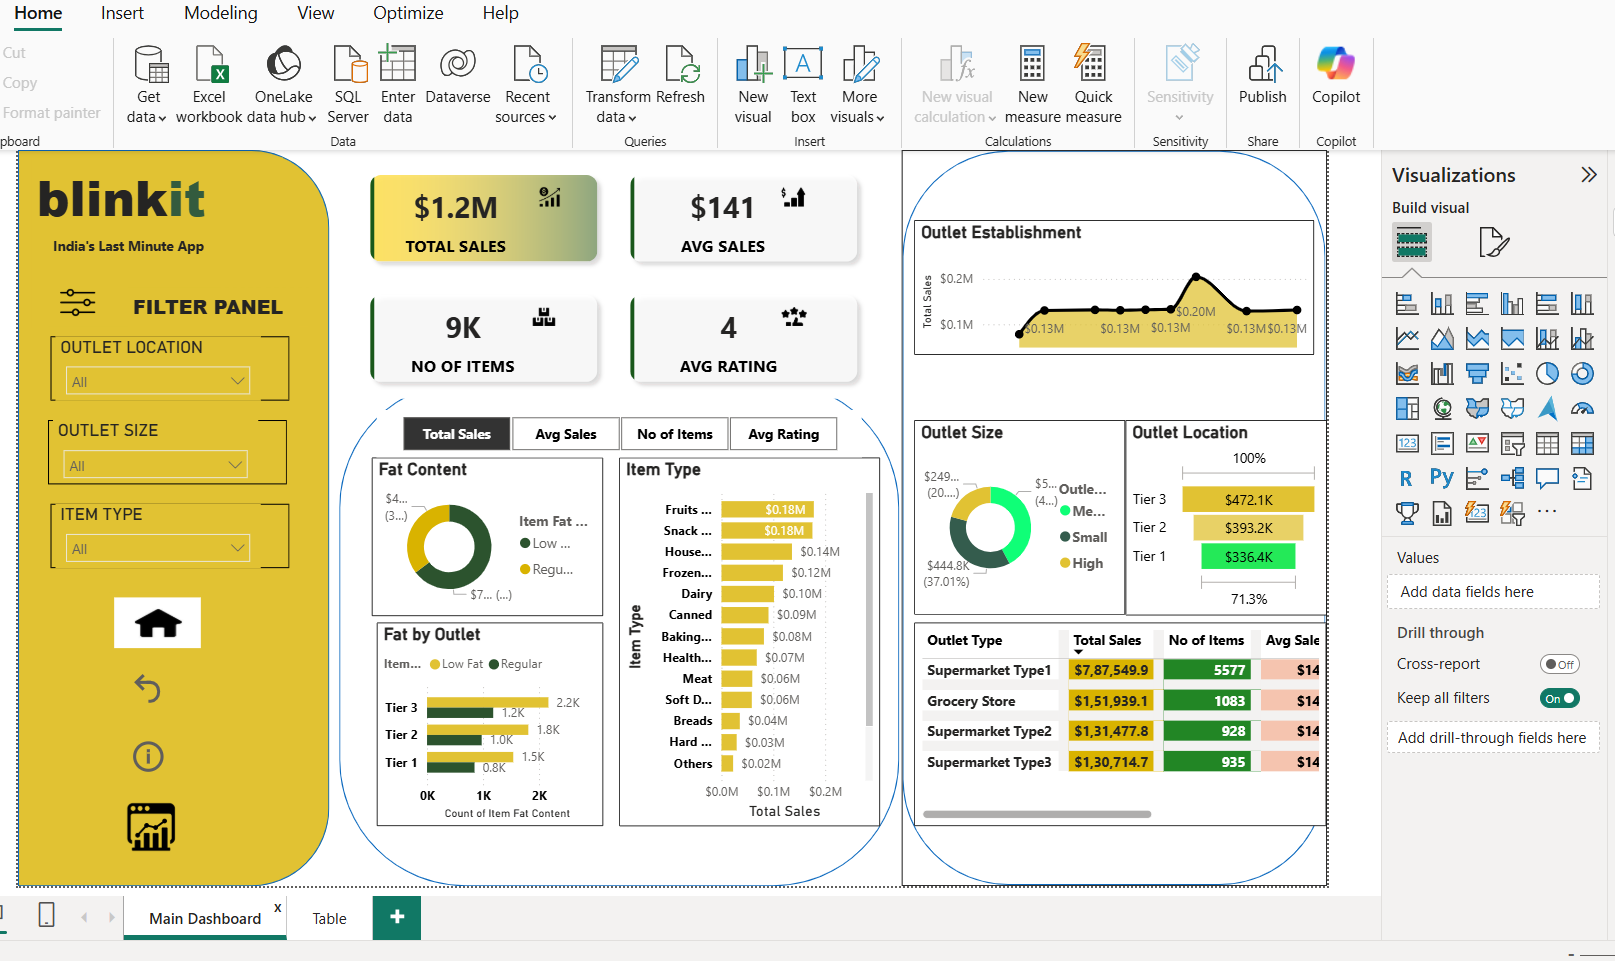

This screenshot's page, from the dashboard's own definition file:
{"tool":"powerbi","page":{"name":"Page 1","canvas":[1280,720],"ordinal":0},"visuals":[{"type":"shape","box":[864.5,0,415.8,720.2],"z":0},{"type":"shape","box":[317.2,226.8,546.8,493.9],"z":1000},{"type":"shape","box":[12.4,0,304.7,720.1],"z":2000},{"type":"donutChart","title":" Fat Content","fields":{"Y":["BlinkIT Grocery Data.Total Sales","BlinkIT Grocery Data.Avg Sales","BlinkIT Grocery Data.No of Items","BlinkIT Grocery Data.Avg Rating"],"Category":["BlinkIT Grocery Data.Item Fat Content"]},"box":[330.4,300,220.3,155.1],"z":3000},{"type":"clusteredBarChart","title":" Fat by Outlet ","fields":{"Category":["BlinkIT Grocery Data.Outlet Location Type"],"Y":["CountNonNull(BlinkIT Grocery Data.Item Fat Content)"],"Series":["BlinkIT Grocery Data.Item Fat Content"]},"box":[340.2,462.9,220.3,211.9],"z":4000},{"type":"clusteredBarChart","title":" Item Type","fields":{"Y":["BlinkIT Grocery Data.Total Sales"],"Category":["BlinkIT Grocery Data.Item Type"]},"box":[582.8,299.8,256.6,375.1],"z":5000},{"type":"donutChart","title":" Outlet Size","fields":{"Category":["BlinkIT Grocery Data.Outlet Size"],"Y":["BlinkIT Grocery Data.Total Sales"]},"box":[876.8,264.1,206.7,190.8],"z":6000},{"type":"funnel","title":"Outlet Location ","fields":{"Category":["BlinkIT Grocery Data.Outlet Location Type"],"Y":["BlinkIT Grocery Data.Total Sales"]},"box":[1083.4,263.5,196.6,191],"z":7000},{"type":"stackedAreaChart","title":" Outlet Establishment ","fields":{"Y":["BlinkIT Grocery Data.Total Sales"],"Category":["BlinkIT Grocery Data.Outlet Establishment Year"]},"box":[876.8,68.5,391.3,132.1],"z":8000},{"type":"textbox","box":[29.3,14.7,245.8,166.3],"z":9000},{"type":"textbox","box":[41.6,79.5,233.6,92.9],"z":10000},{"type":"tableEx","fields":{"Values":["BlinkIT Grocery Data.Outlet Type","BlinkIT Grocery Data.Total Sales","BlinkIT Grocery Data.No of Items","BlinkIT Grocery Data.Avg Sales","BlinkIT Grocery Data.Avg Rating","Avg(BlinkIT Grocery Data.Item Visibility)"]},"box":[864.5,462.2,415.8,199.3],"z":11000},{"type":"shape","box":[31.5,182.4,233.8,63],"z":12000},{"type":"shape","box":[29.8,263.6,233.8,63],"z":13000},{"type":"shape","box":[31.5,346.5,233.8,63],"z":14000},{"type":"slicer","title":"OUTLET SIZE","fields":{"Values":["BlinkIT Grocery Data.Outlet Location Type","BlinkIT Grocery Data.Outlet Size","BlinkIT Grocery Data.Item Type"]},"box":[34.8,263.6,200.6,59.7],"z":15000},{"type":"slicer","title":"OUTLET LOCATION","fields":{"Values":["BlinkIT Grocery Data.Outlet Location Type","BlinkIT Grocery Data.Outlet Size","BlinkIT Grocery Data.Item Type"]},"box":[36.5,182.4,200.6,63],"z":16000},{"type":"slicer","title":"ITEM TYPE","fields":{"Values":["BlinkIT Grocery Data.Outlet Location Type","BlinkIT Grocery Data.Outlet Size","BlinkIT Grocery Data.Item Type"]},"box":[36.5,346.5,200.6,63],"z":17000},{"type":"image","box":[89.5,432.7,94.5,59.7],"z":18000},{"type":"actionButton","box":[107.8,507.4,99.5,38.1],"z":19000},{"type":"image","box":[12.4,134.3,116.9,47.3],"z":20000},{"type":"textbox","box":[108.2,134.3,176.6,38.6],"z":21000},{"type":"actionButton","box":[107.8,573.7,99.5,39.8],"z":22000},{"type":"image","box":[99.5,633.4,63,58],"z":23000},{"type":"slicer","fields":{"Values":["Parameter.Parameter"]},"box":[351,245.8,474.5,46.5],"z":24000},{"type":"cardVisual","fields":{"Data":["BlinkIT Grocery Data.Total Sales","BlinkIT Grocery Data.Avg Sales","BlinkIT Grocery Data.No of Items","BlinkIT Grocery Data.Avg Rating"]},"box":[330.5,0,511,236],"z":25000}]}

Visuals, with their boxes on the page's 1280x720 design canvas (x1, y1, x2, y2). These are canvas units, not pixel positions in the 1615x961 screenshot, which may show the page scaled, cropped or inside an application window:
shape: <box>864,0,1280,720</box>
shape: <box>317,227,864,721</box>
shape: <box>12,0,317,720</box>
" Fat Content" donutChart: <box>330,300,551,455</box>
" Fat by Outlet " clusteredBarChart: <box>340,463,560,675</box>
" Item Type" clusteredBarChart: <box>583,300,839,675</box>
" Outlet Size" donutChart: <box>877,264,1084,455</box>
"Outlet Location " funnel: <box>1083,264,1280,454</box>
" Outlet Establishment " stackedAreaChart: <box>877,68,1268,201</box>
textbox: <box>29,15,275,181</box>
textbox: <box>42,80,275,172</box>
tableEx - BlinkIT Grocery Data.Outlet Type x BlinkIT Grocery Data.Total Sales: <box>864,462,1280,662</box>
shape: <box>32,182,265,245</box>
shape: <box>30,264,264,327</box>
shape: <box>32,346,265,410</box>
"OUTLET SIZE" slicer: <box>35,264,235,323</box>
"OUTLET LOCATION" slicer: <box>36,182,237,245</box>
"ITEM TYPE" slicer: <box>36,346,237,410</box>
image: <box>90,433,184,492</box>
actionButton: <box>108,507,207,546</box>
image: <box>12,134,129,182</box>
textbox: <box>108,134,285,173</box>
actionButton: <box>108,574,207,614</box>
image: <box>100,633,162,691</box>
slicer - Parameter.Parameter: <box>351,246,826,292</box>
cardVisual - BlinkIT Grocery Data.Total Sales x BlinkIT Grocery Data.Avg Sales: <box>330,0,842,236</box>
